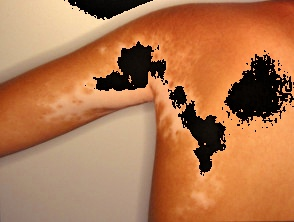vitiligo: (16, 0, 294, 222)
